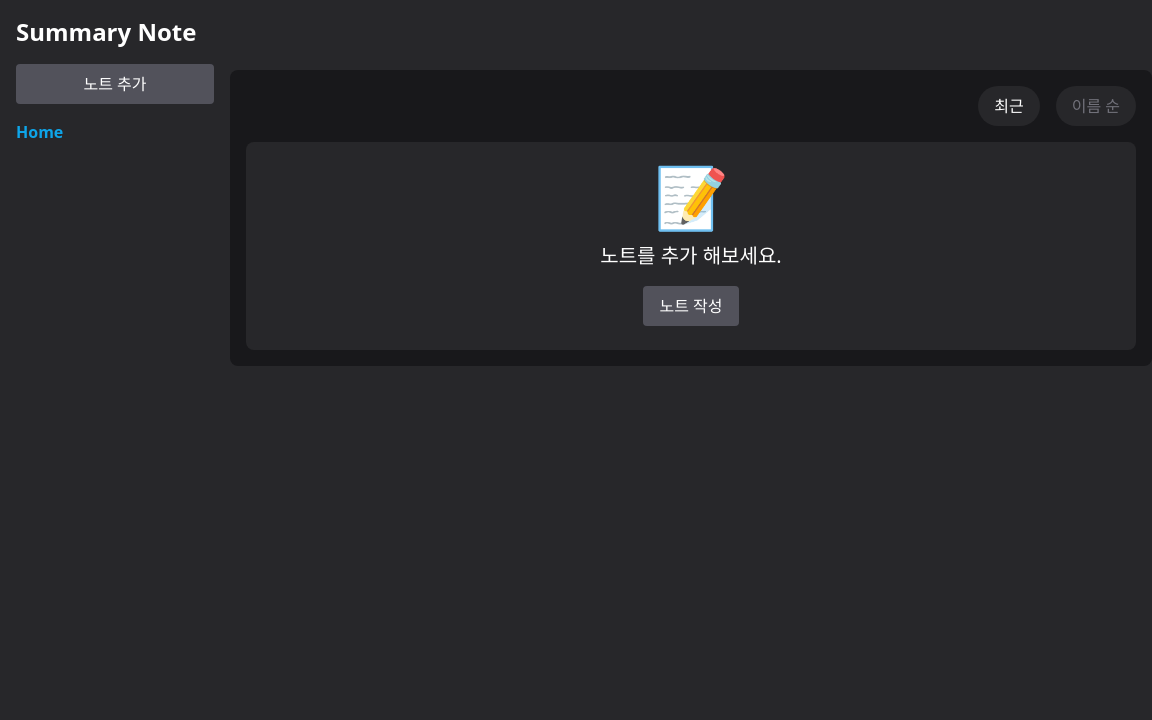
Test: 노트 추가 및 편집 기능 › 새로운 노트 추가, noteDetail 라우터 이동, 사이드바 링크 추가
This screenshot has width=1152, height=720.
Click the button "노트 추가".
click(115, 84)  # box [16,64,214,104]
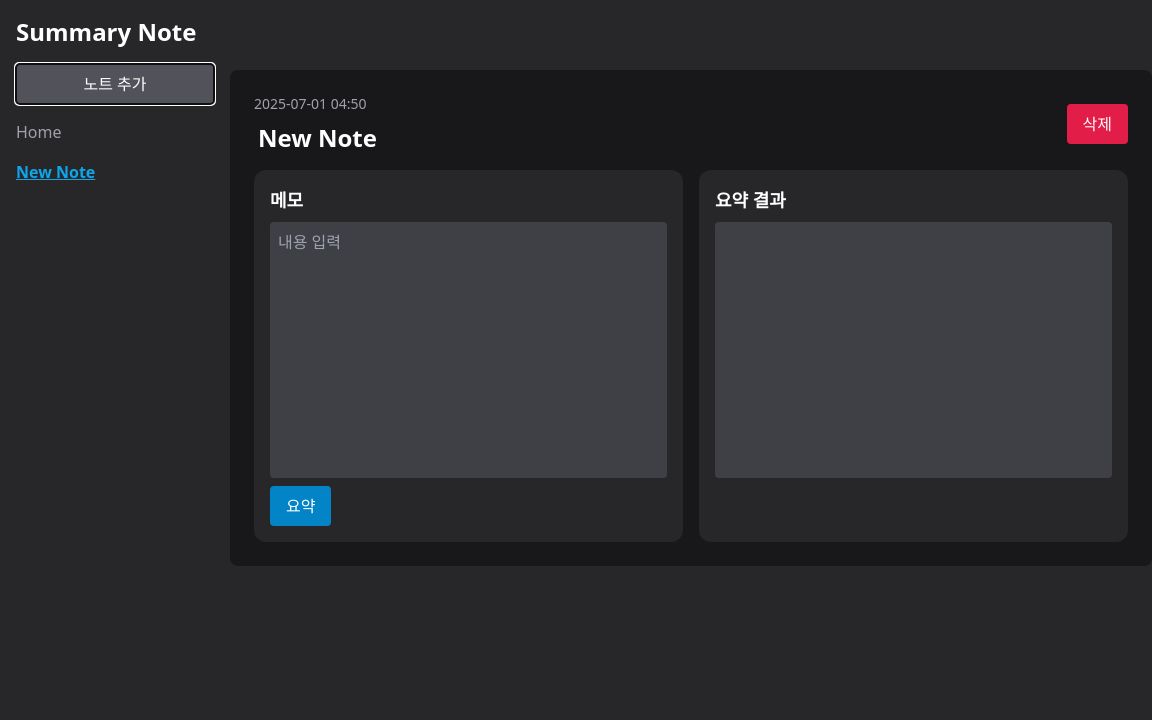
Expected: the link "New Note" is shown, [16,161,95,183]
Replace the text in the field named "제목" with "Test Title" at (442, 138), box [254,122,630,154]
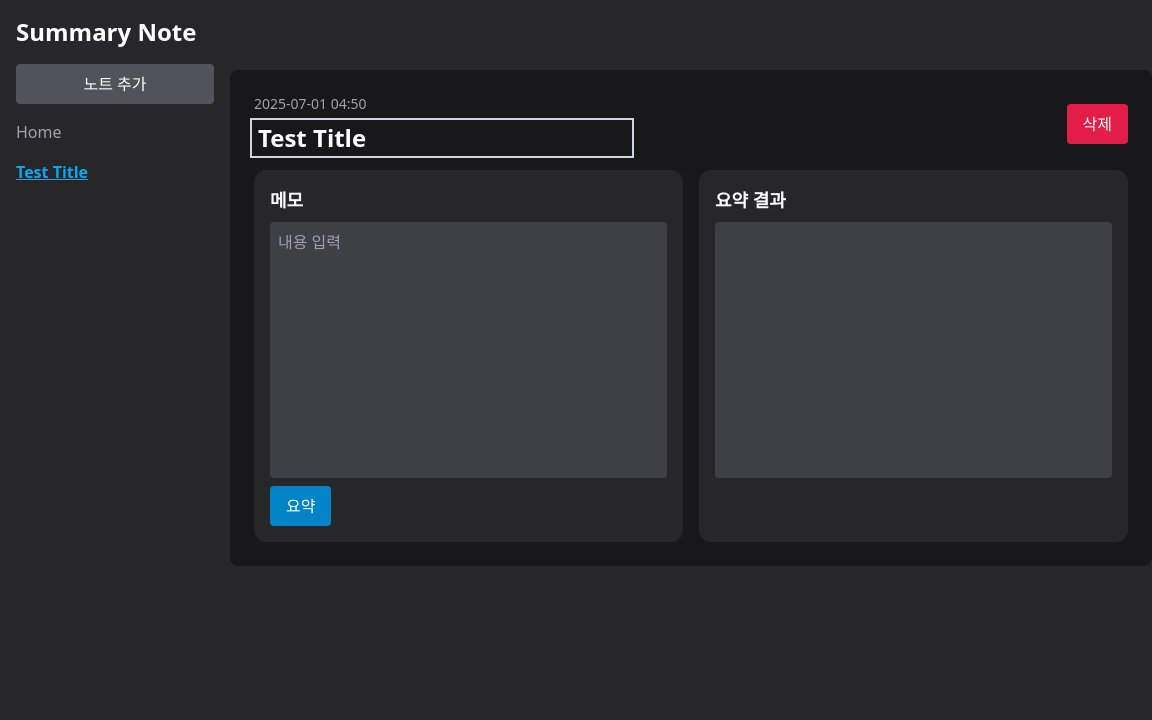
Type "Test Content" into the text box with placeholder "내용 입력".
click(468, 350); type("Test Content")  # box [270,222,667,478]
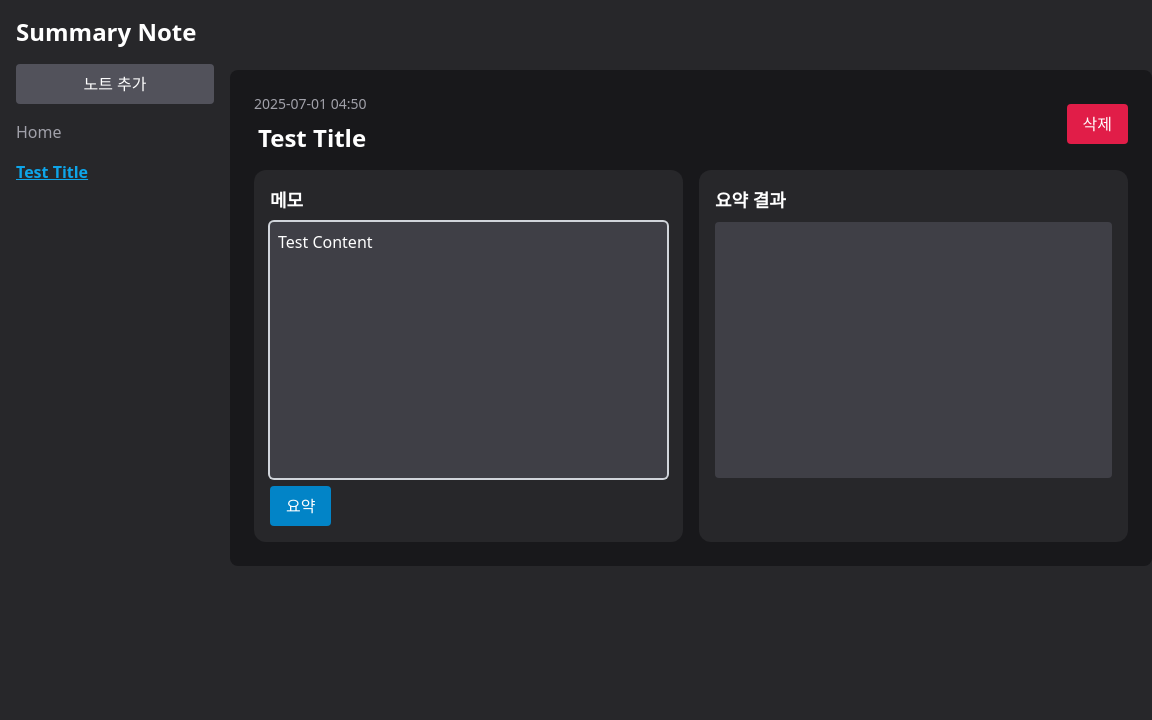
Expected: the link named "New Note" reads "Test Title", [16,161,88,183]
Click the button "요약".
click(301, 506)  # box [270,486,332,526]
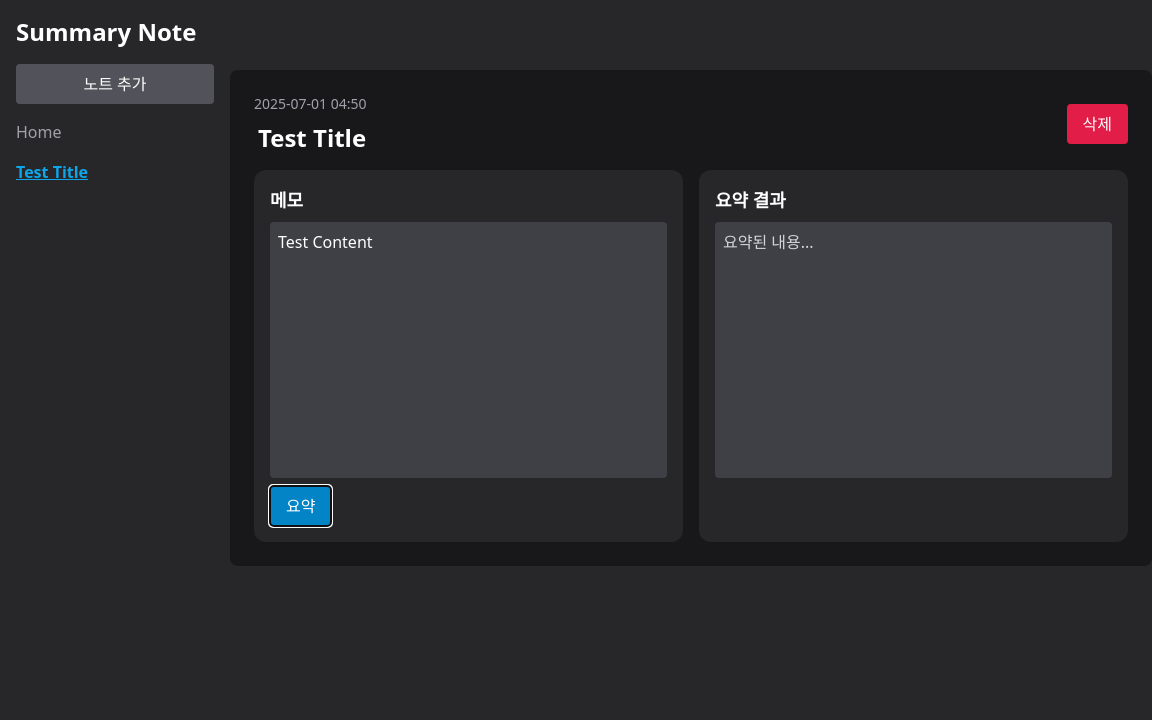
Expected: the text "요약된 내용..." is shown, [715,222,1112,478]
